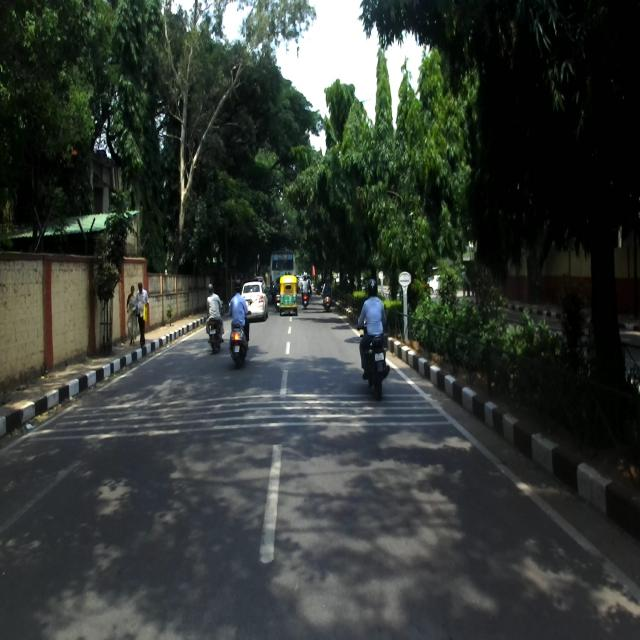Car_Maruti-Suzuki: (240, 282, 268, 320)
motorcycle_TVS: (207, 300, 223, 352)
motorcycle_bajaj: (355, 318, 390, 400)
scooter: (228, 308, 252, 367)
